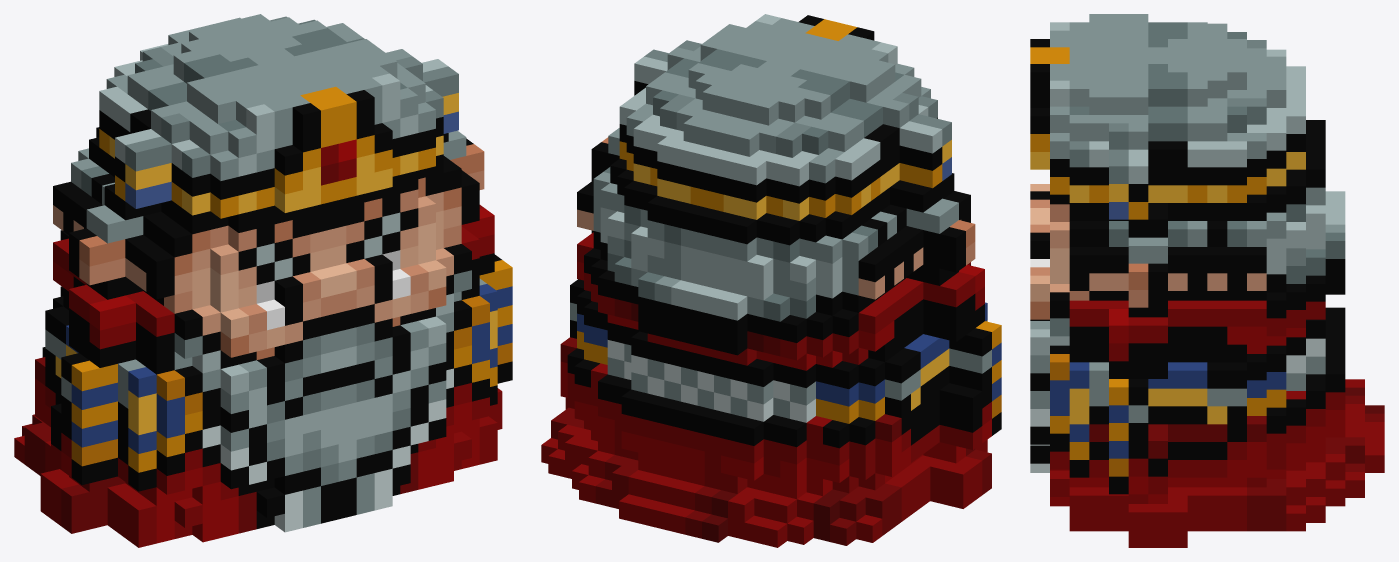
The model's file is Icon_901_03.obj.
3 views of the same model, side by side, from view 1: azimuth 30°, elevation 25°; view 2: azimuth 150°, elevation 25°; view 3: azimuth 270°, elevation 25° (orthographic). The views are drawn at different scales.
Size of the model in its own units: 2.4 by 2.2 by 1.8.
